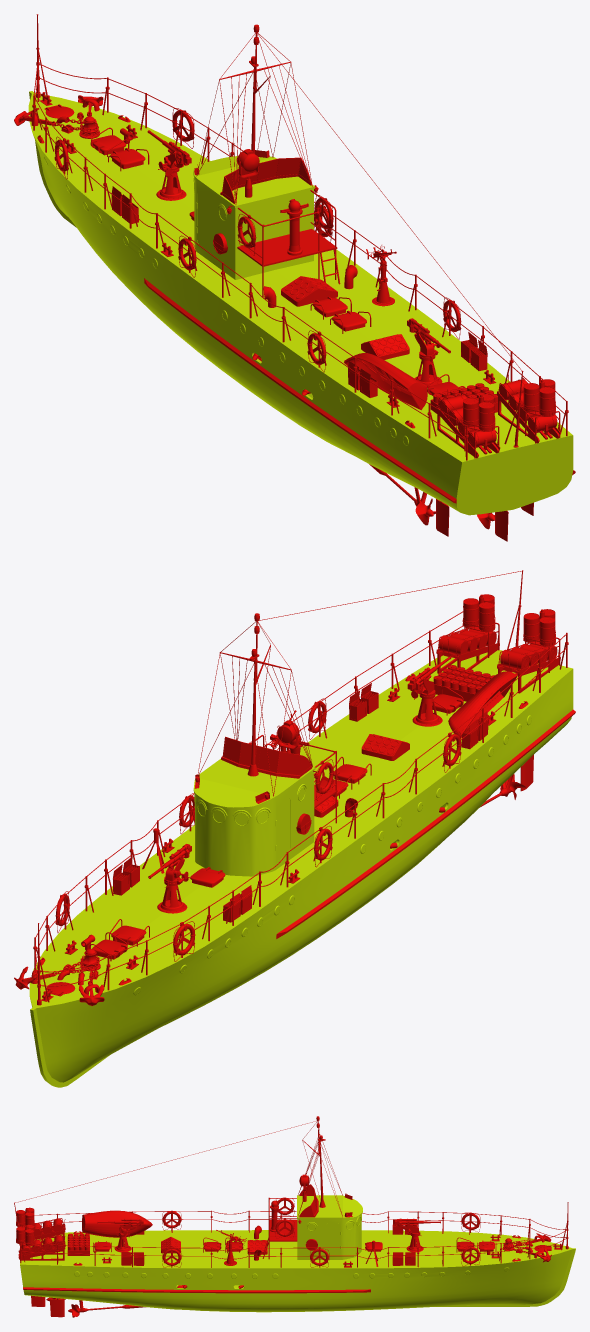
File: enemigo_dificil.fbx
The picture shows the model from 3 angles, top to bottom: view 1: azimuth 30°, elevation 25°; view 2: azimuth 150°, elevation 25°; view 3: azimuth 270°, elevation 25°; orthographic projection. The views are drawn at different scales.
Visible parts, largest first — view 1: 11.001_LP, 11_LP, Cube.080_LP, Cube.079_LP, 11.001_LP.001, Cube.042_LP, Cube.026_low_LP, Cube.001_LP, BezierCurve.006_LP, BezierCurve.007_LP, Cylinder.030_low.001_LP, Cylinder.030_low_LP (+1 smaller); view 2: 11.001_LP, 11_LP, Cube.080_LP, Cube.079_LP, Cube.001_LP, 11.001_LP.001, Cube.026_low_LP, BezierCurve.006_LP, Cylinder.085_LP, BezierCurve.007_LP, Cylinder.030_low_LP, Cylinder.030_low.001_LP (+2 smaller); view 3: 11_LP, 11.001_LP, Cube.080_LP, Cube.026_low_LP, 11.001_LP.001, Cube.079_LP, BezierCurve.006_LP, BezierCurve.007_LP, Cube.077_LP, Cube.042_LP, Cylinder.030_low_LP, Cylinder.085_LP (+8 smaller).
Part boxes in pixels (box(x1,y1,x2,y2)): 11.001_LP: box(28, 91, 517, 515); 11_LP: box(31, 91, 573, 509); Cube.080_LP: box(194, 178, 313, 279); Cube.079_LP: box(193, 156, 315, 207); 11.001_LP.001: box(144, 278, 575, 503); Cube.042_LP: box(237, 229, 337, 266); Cube.026_low_LP: box(344, 353, 427, 410); Cube.001_LP: box(220, 157, 311, 203); BezierCurve.006_LP: box(34, 78, 565, 425); BezierCurve.007_LP: box(34, 92, 565, 439); Cylinder.030_low.001_LP: box(439, 394, 496, 447); Cylinder.030_low_LP: box(499, 379, 557, 432); 11.001_LP: box(31, 663, 573, 1087); 11_LP: box(29, 649, 502, 1086); Cube.080_LP: box(195, 770, 314, 876); Cube.079_LP: box(193, 759, 315, 809); Cube.001_LP: box(221, 736, 311, 778); 11.001_LP.001: box(276, 709, 575, 938); Cube.026_low_LP: box(448, 671, 517, 738); BezierCurve.006_LP: box(35, 611, 566, 956); Cylinder.085_LP: box(433, 665, 494, 693); BezierCurve.007_LP: box(36, 625, 566, 970); Cylinder.030_low_LP: box(439, 629, 496, 654); Cylinder.030_low.001_LP: box(500, 643, 557, 669); 11_LP: box(20, 1248, 575, 1312); 11.001_LP: box(30, 1230, 575, 1287); Cube.080_LP: box(297, 1214, 361, 1259); Cube.026_low_LP: box(82, 1210, 152, 1237); 11.001_LP.001: box(23, 1287, 370, 1293); Cube.079_LP: box(297, 1195, 362, 1218); BezierCurve.006_LP: box(21, 1211, 529, 1248); BezierCurve.007_LP: box(21, 1219, 529, 1256); Cube.077_LP: box(325, 1223, 340, 1255); Cube.042_LP: box(268, 1220, 297, 1241); Cylinder.030_low_LP: box(21, 1235, 63, 1255); Cylinder.085_LP: box(68, 1233, 89, 1250).
Bounding box in the file's own units: 478 × 1047 × 2809.
